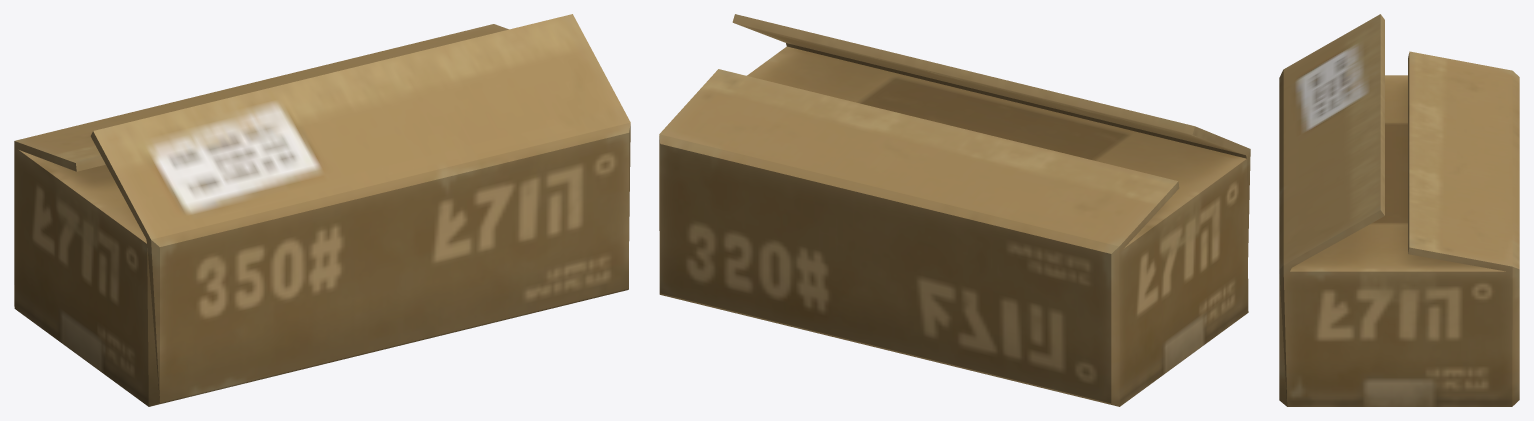
File: P_Paperbox_009_S1_M01.obj
3 views of the same model, side by side, from view 1: azimuth 30°, elevation 25°; view 2: azimuth 150°, elevation 25°; view 3: azimuth 270°, elevation 25° (orthographic). The views are drawn at different scales.
Size of the model in its own units: 0.9093 by 0.426 by 0.4714.
1 material, 1 textured.
